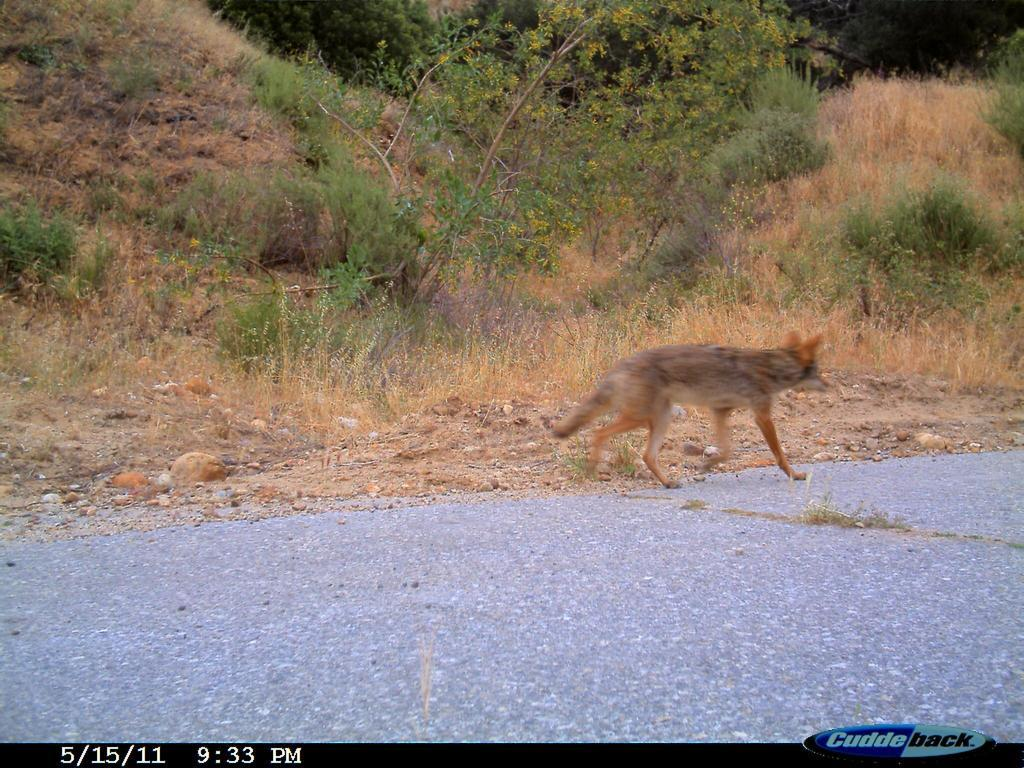coyote: (557, 313, 838, 492)
